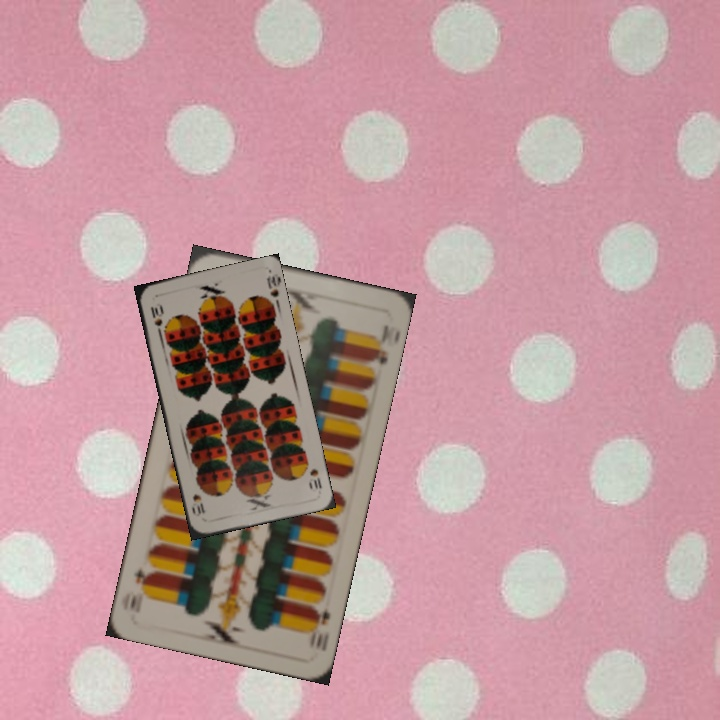E10: (306, 598, 333, 652)
S10: (146, 299, 165, 337), (306, 464, 324, 492)
